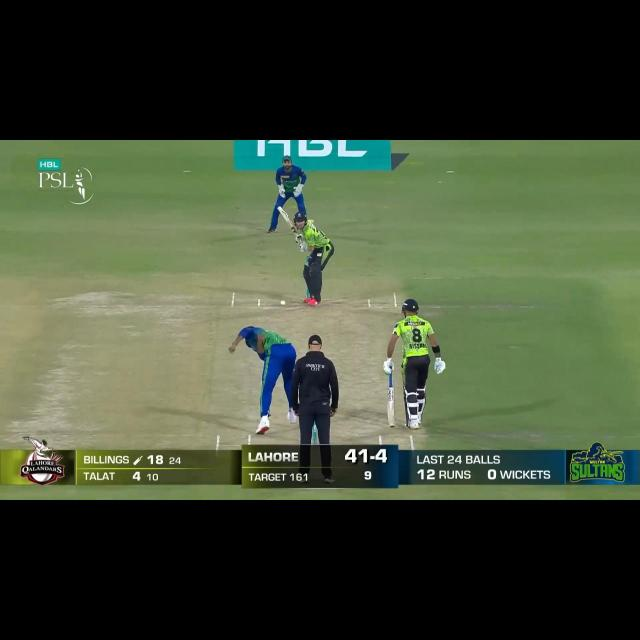bat: (276, 202, 299, 238), (386, 385, 396, 429)
toe: (276, 205, 284, 214), (387, 421, 397, 428)
